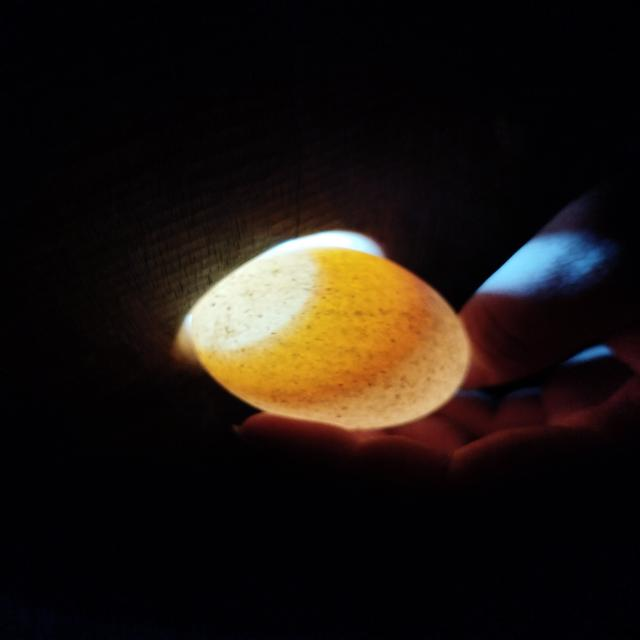Camara de Ar: (193, 248, 314, 348)
